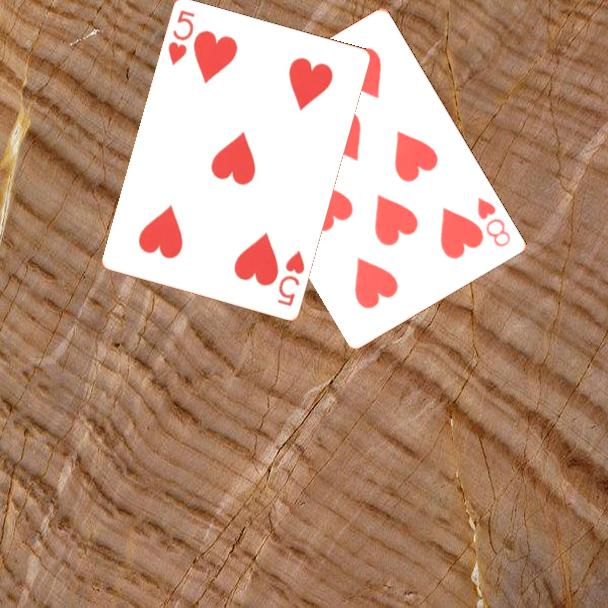h05: (274, 247, 308, 310), (165, 7, 198, 68)
h08: (474, 194, 514, 250)
